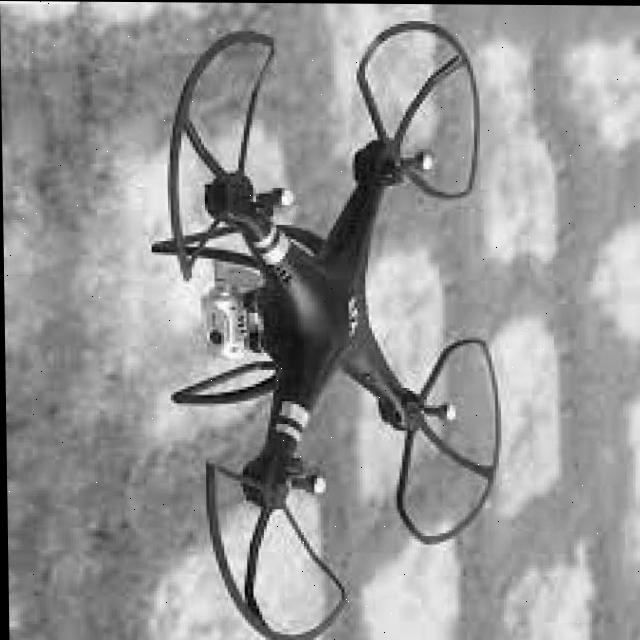drone: (133, 17, 518, 640)
